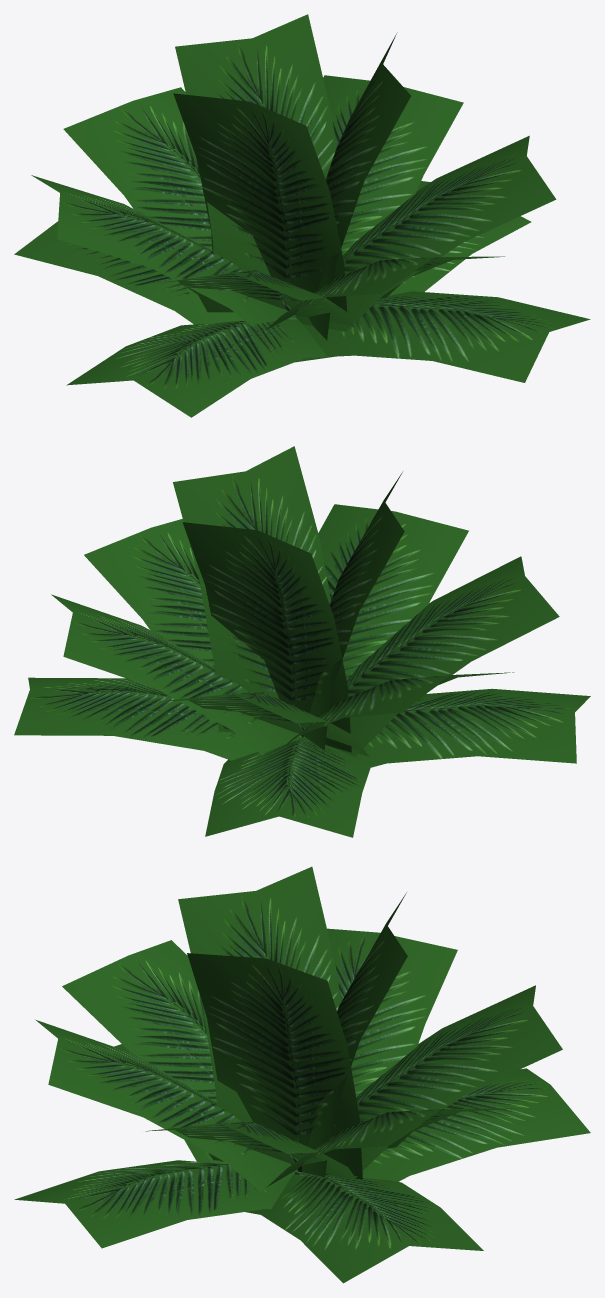
The model's file is mini palm3.FBX.
The picture shows the model from 3 angles, top to bottom: view 1: azimuth 30°, elevation 25°; view 2: azimuth 150°, elevation 25°; view 3: azimuth 270°, elevation 25°; orthographic projection. The views are drawn at different scales.
Visible parts, largest first — view 1: mini palm3; view 2: mini palm3; view 3: mini palm3.
Boxes of the visible parts, bbox=[...] form: mini palm3: bbox=[14, 14, 590, 417]; mini palm3: bbox=[14, 446, 590, 837]; mini palm3: bbox=[14, 866, 590, 1283].
Bounding box in the file's own units: 9.16 × 4.51 × 8.79.
